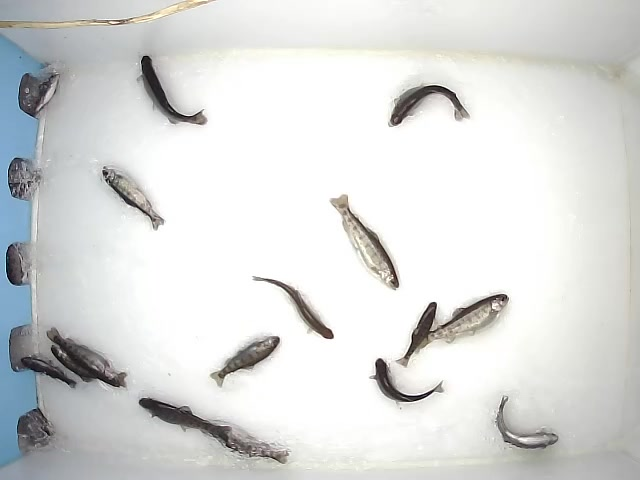fish: (328, 193, 400, 293), (417, 291, 512, 350), (252, 275, 334, 341), (139, 54, 210, 126), (46, 326, 126, 389), (384, 81, 477, 128), (139, 401, 231, 447), (100, 166, 165, 231), (207, 333, 280, 389), (492, 393, 560, 450), (368, 356, 446, 405), (208, 420, 290, 465), (394, 302, 438, 369)
